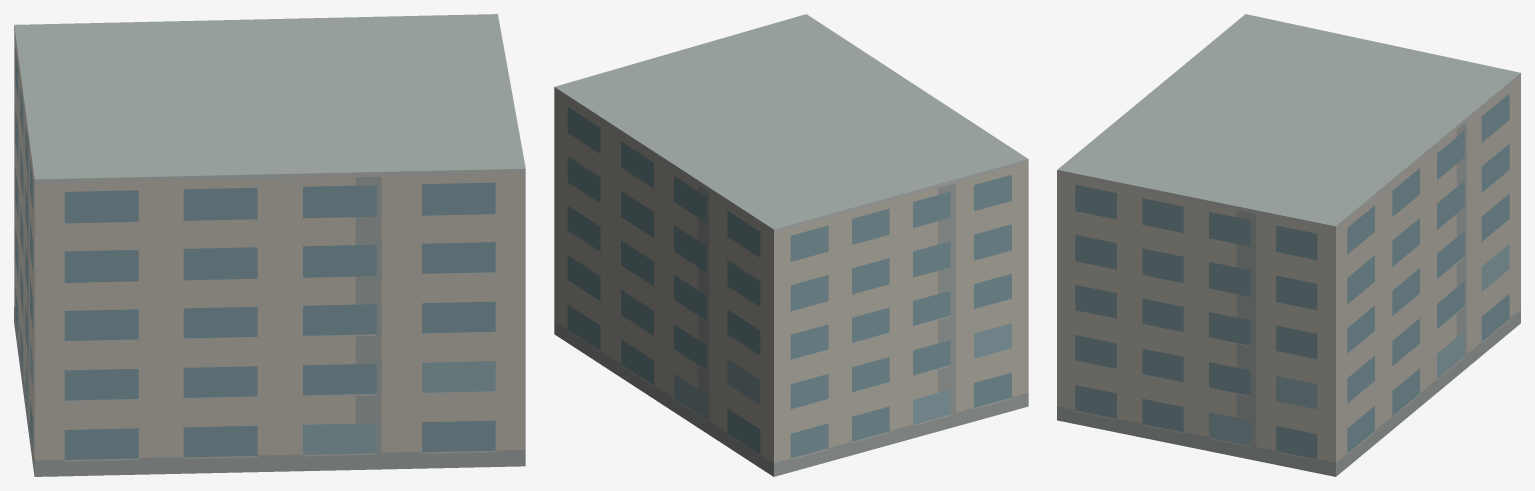
File: survey-upis-32845949.glb
3 renders of one model, left to right at view 1: azimuth 30°, elevation 25°; view 2: azimuth 150°, elevation 25°; view 3: azimuth 270°, elevation 25°, orthographic. The views are drawn at different scales.
Visible parts, largest first — view 1: survey-upis-32845949.tmp; view 2: survey-upis-32845949.tmp; view 3: survey-upis-32845949.tmp.
Part boxes in pixels (x1,y1,x2,y2): survey-upis-32845949.tmp: [14, 14, 525, 476]; survey-upis-32845949.tmp: [554, 14, 1028, 476]; survey-upis-32845949.tmp: [1057, 14, 1520, 476].
Bounding box in the file's own units: 27.73 × 15.25 × 25.59.
